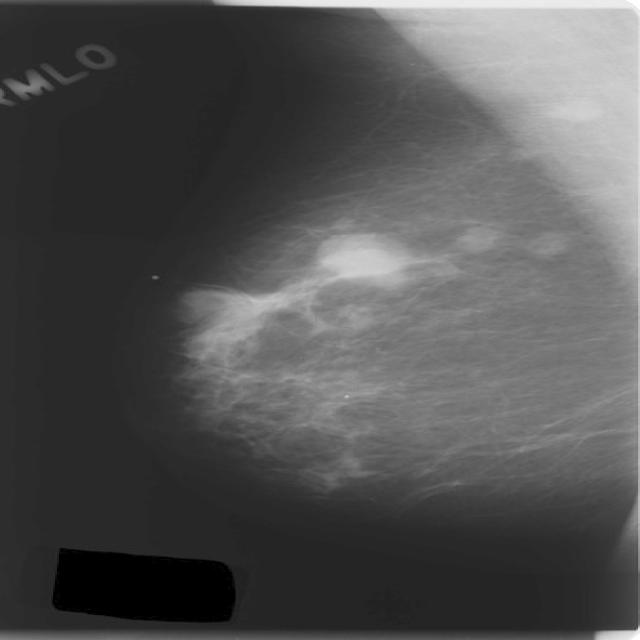tumour: (177, 288, 290, 343), (312, 232, 406, 284)
